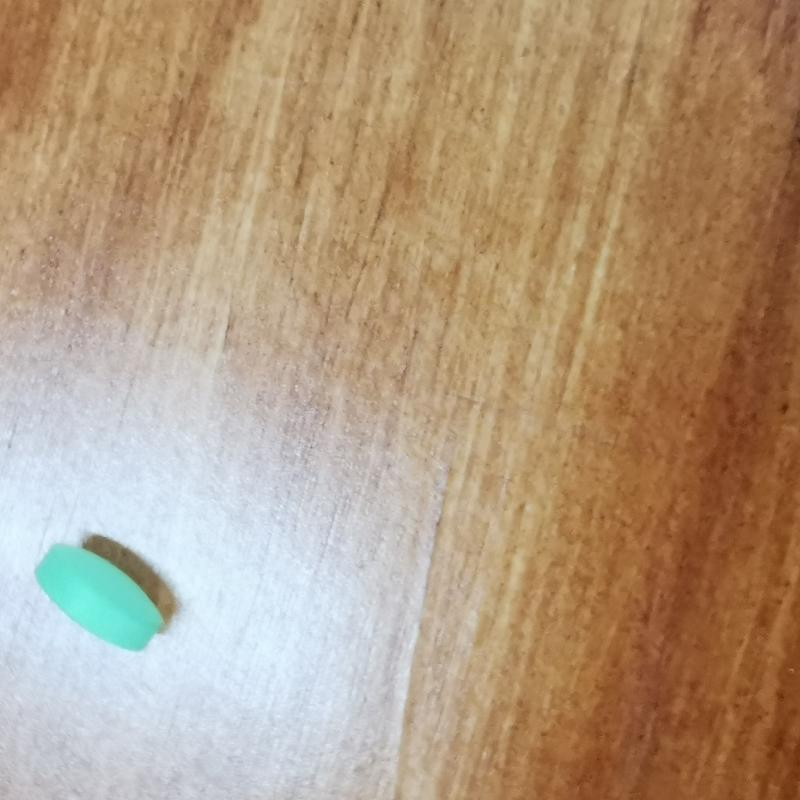pills: (29, 532, 167, 661)
